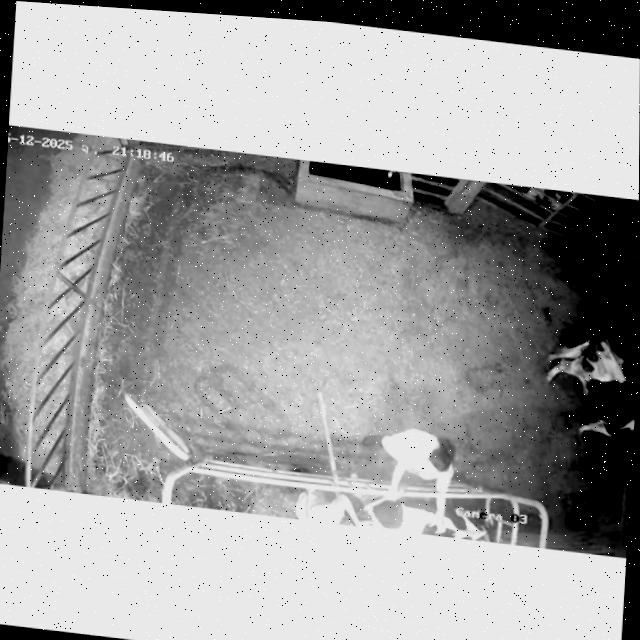stand: (523, 317, 638, 451)
